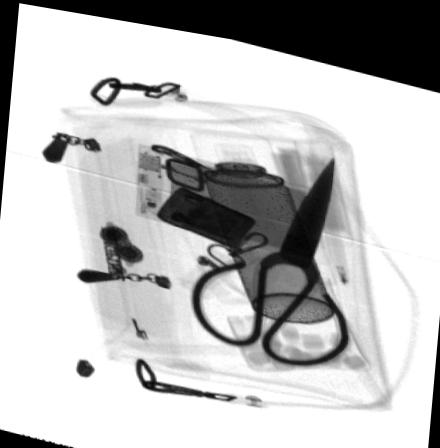Lighter: (157, 182, 254, 240)
Powerbank: (131, 138, 314, 253)
Scissors: (191, 147, 352, 356)
Sprayer: (190, 122, 343, 315)
